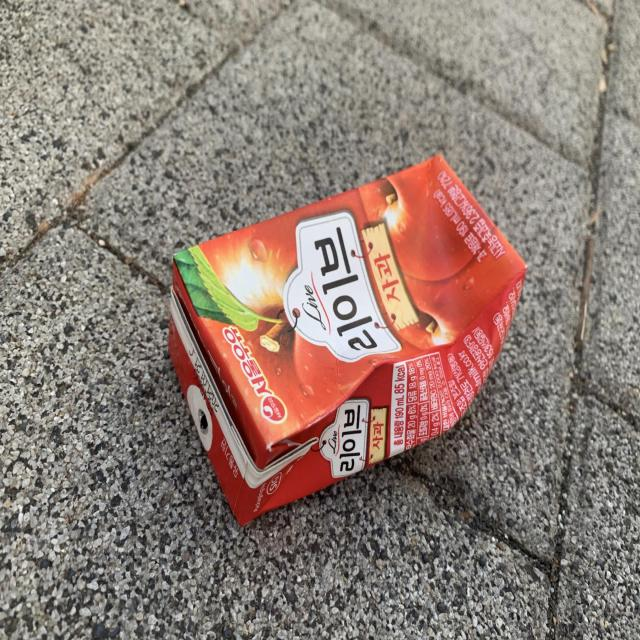paperpack: (169, 155, 527, 525)
